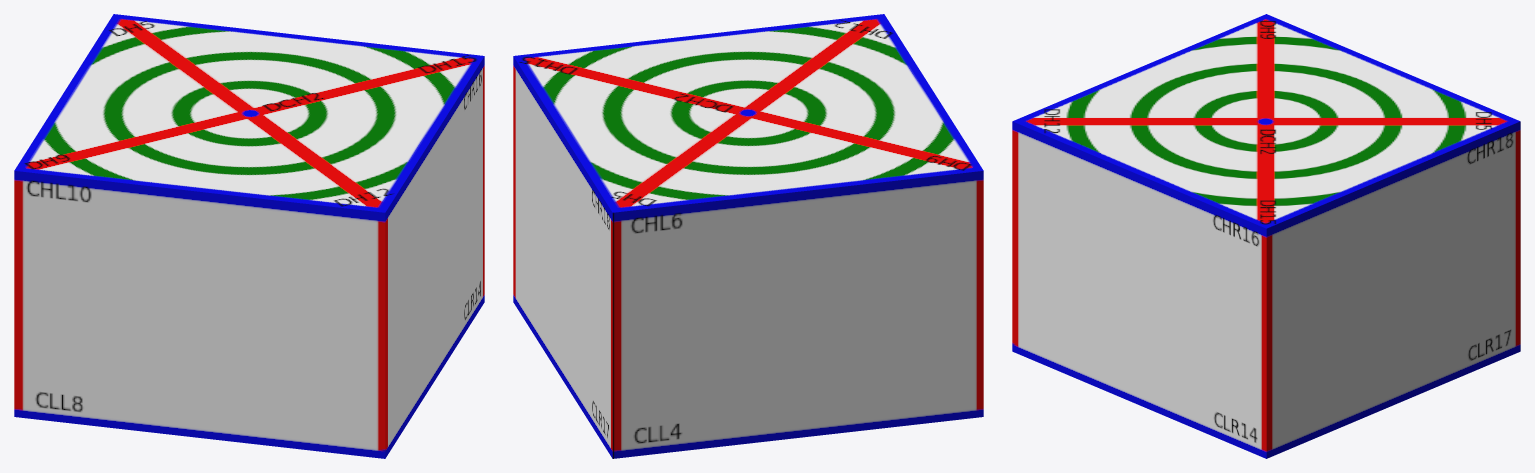
Rendered from cylindre4.obj.
3 renders of one model, left to right at view 1: azimuth 30°, elevation 25°; view 2: azimuth 150°, elevation 25°; view 3: azimuth 270°, elevation 25°, orthographic. The views are drawn at different scales.
Bounding box in the file's own units: 2 × 1 × 2.
Materials: 1 (1 with a texture image).
